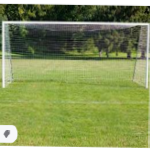goals: (1, 18, 150, 90)
